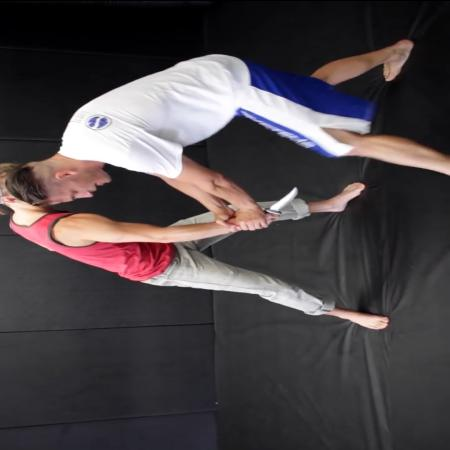long weapon: (252, 183, 302, 230)
